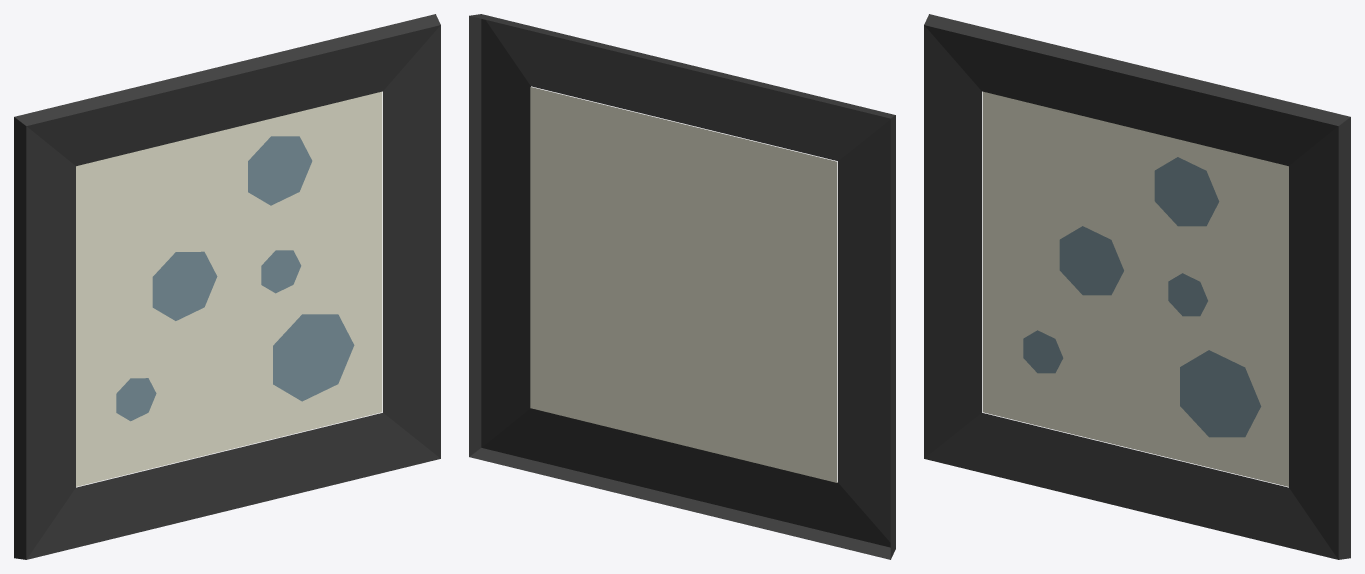
The model's file is picture_025.glb.
3 renders of one model, left to right at view 1: azimuth 30°, elevation 25°; view 2: azimuth 150°, elevation 25°; view 3: azimuth 330°, elevation 25°, orthographic.
Parts seen in each view (by area): view 1: picture_025; view 2: picture_025; view 3: picture_025.
Part boxes in pixels (x1=…): picture_025: x1=14, y1=14, x2=440, y2=559; picture_025: x1=469, y1=14, x2=895, y2=559; picture_025: x1=924, y1=14, x2=1350, y2=559.
Size of the model in its own units: 0.6603 by 0.6603 by 0.0237.
1 material, 1 textured.
